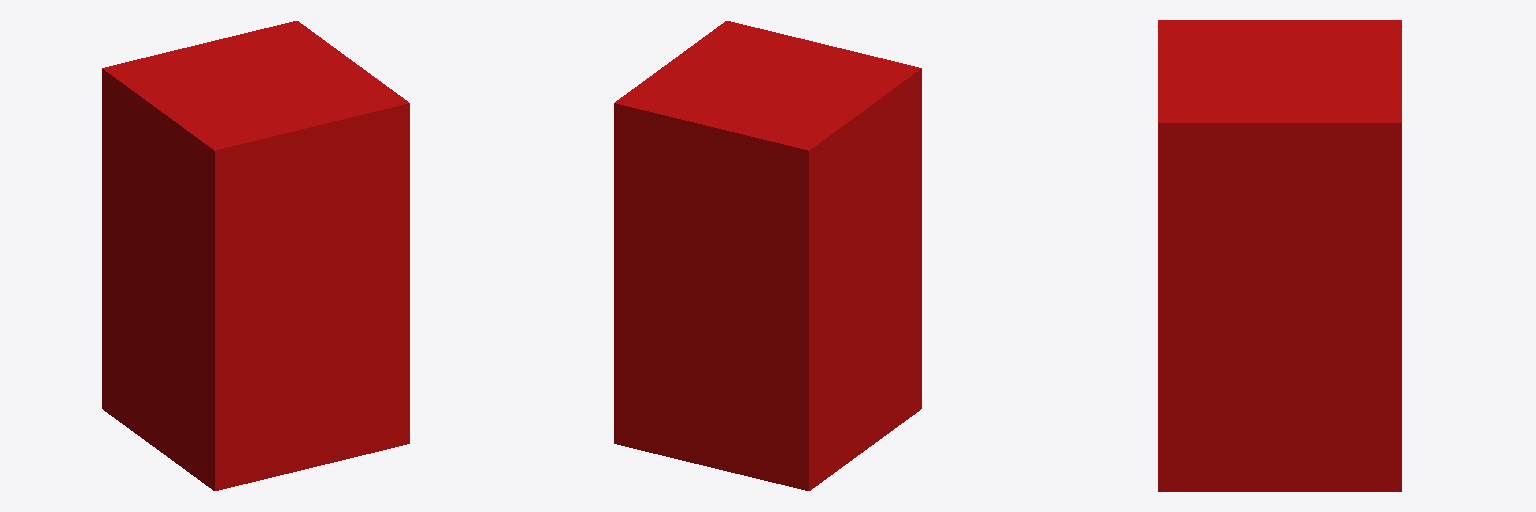
The robot description file, URDF, robot "simple_cuboid":
<?xml version="1.0"?>
<robot name="simple_cuboid">
  <link name="base_link">
    <inertial>
      <origin xyz="0 0 0" rpy="0 0 0" />
      <mass value="0.1" />
      <inertia ixx="0.000363" ixy="0" ixz="0" iyy="0.000363" iyz="0"
          izz="0.00006" />
    </inertial>
    <visual>
      <origin xyz="0 0 0" rpy="0 0 0" />
      <geometry>
        <box size="0.06 0.06 0.1" />
      </geometry>
      <material name="red">
        <color rgba="0.8 0.1 0.1 0.9" />
      </material>
    </visual>

    <!--
      This places contact spheres on the corners of the visual box and a
      *slightly* smaller inset contact box (centered on the visual origin). This
      accounts for issues in the contact computation providing stable table
      contact *and* supports grasping.

      When the box is in stable contact with the ground plane, the corner
      spheres will provide fixed contact points (simulating distributed contact
      points around the face).  However, for arbitrary grip configuration, the
      slightly inset box will provide contact with a *slight* offset (in this
      case a deviation of 0.0005 m from the visual surface).

      https://github.com/RobotLocomotion/drake/issues/6254 tracks the
      difficulty in supporting face-to-face contact.
     -->
    <collision>
      <origin xyz="0 0 0" rpy="0 0 0" />
      <geometry>
        <mesh filename="file://[local-path]/ros_devel_ws/src/learn_affordance_tamp/tamp/examples/pybullet/utils/models/drake/objects/meiying_block_for_pick_and_place_short.obj" />
      </geometry>
    </collision>

   </link>
</robot>

--- Render facts (derived) ---
3 views of the same robot in one strip: view 1: azimuth 30°, elevation 25°; view 2: azimuth 150°, elevation 25°; view 3: azimuth 270°, elevation 25° (orthographic).
Robot: simple_cuboid — 1 links, 0 joints (none); root link base_link; default pose: every joint at zero.
Visible links, largest first — view 1: base_link; view 2: base_link; view 3: base_link.
Boxes of the visible links, x1=… form: base_link: x1=102, y1=21, x2=409, y2=490; base_link: x1=614, y1=21, x2=921, y2=490; base_link: x1=1158, y1=20, x2=1401, y2=491.
Bounding box of the posed robot: 0.06 × 0.06 × 0.1 m (x, y, z).
Geometry: primitives only (box / cylinder / sphere), no mesh files.
